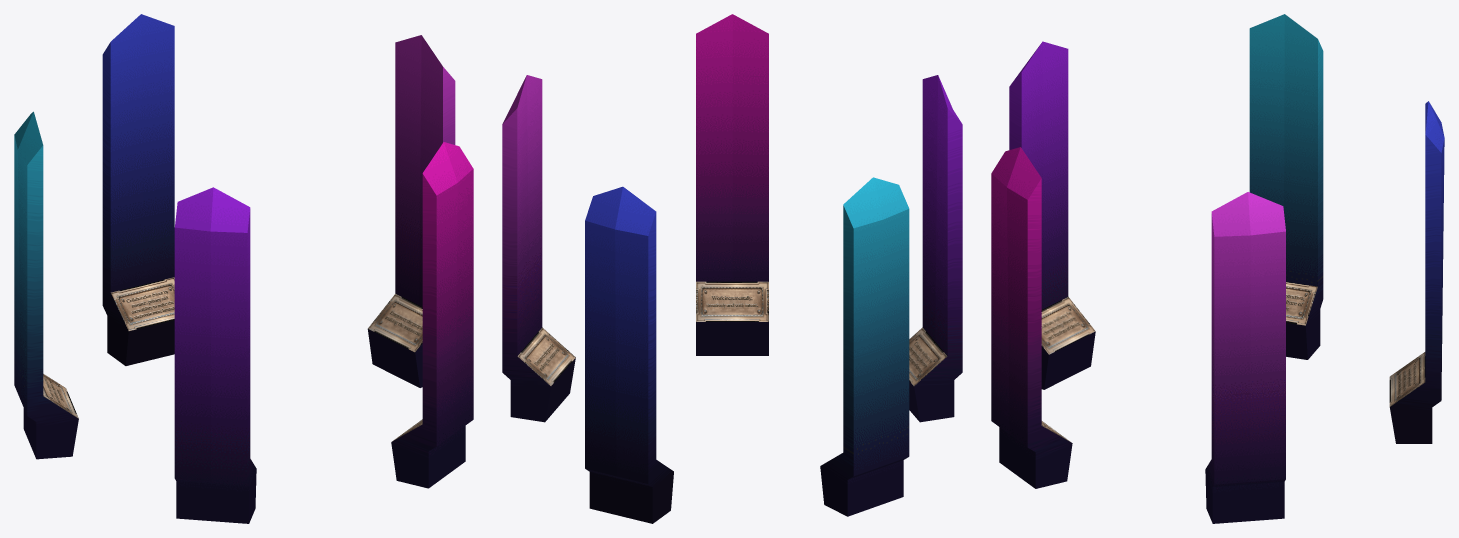
Rendered from core_values_monument.glb.
3 renders of one model, left to right at view 1: azimuth 30°, elevation 25°; view 2: azimuth 150°, elevation 25°; view 3: azimuth 270°, elevation 25°, orthographic.
Visible parts, largest first — view 1: Cube, Cube.001; view 2: Cube, Cube.001; view 3: Cube, Cube.001.
Boxes of the visible parts, x1,y1,x2,y2 form: Cube: [14, 14, 473, 523]; Cube.001: [43, 277, 422, 441]; Cube: [502, 14, 962, 523]; Cube.001: [517, 281, 947, 385]; Cube: [991, 14, 1444, 523]; Cube.001: [1041, 281, 1425, 441].
Bounding box in the file's own units: 5.18 × 4.04 × 5.06.
Materials: 1 (1 with a texture image).
